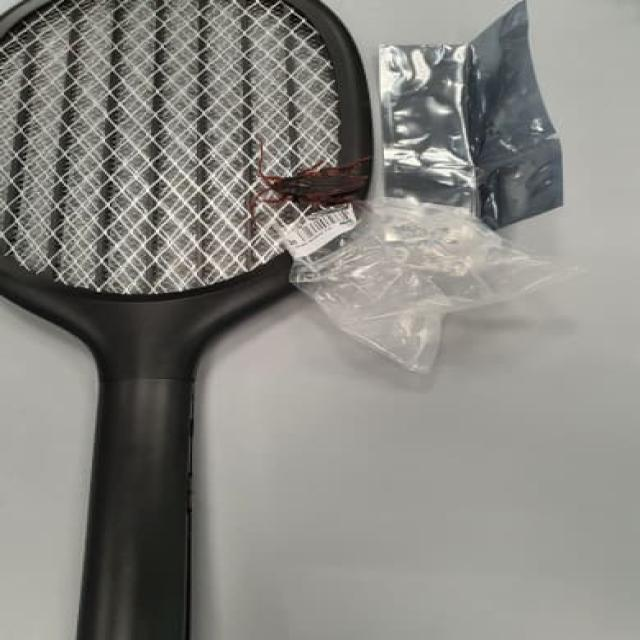Cockroach: (238, 124, 379, 212)
